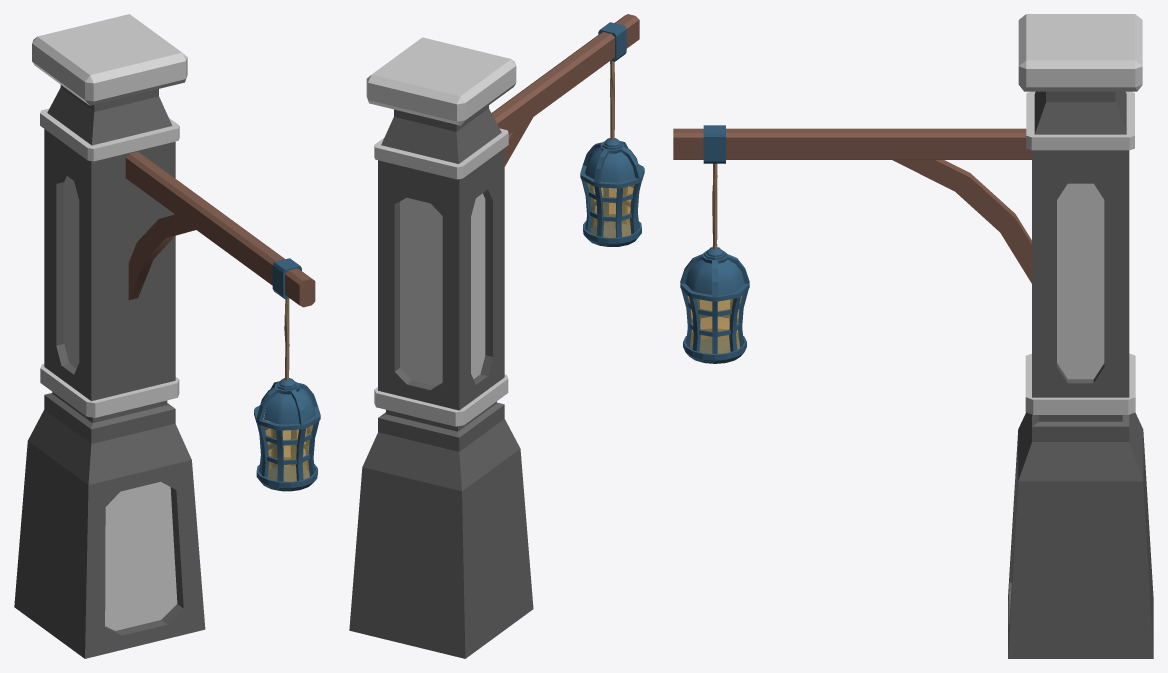
The model's file is StreetOilLight01_LOD_1.fbx.
The picture shows the model from 3 angles, left to right: view 1: azimuth 30°, elevation 25°; view 2: azimuth 150°, elevation 25°; view 3: azimuth 270°, elevation 25°; orthographic projection. The views are drawn at different scales.
Parts seen in each view (by area): view 1: street_oil_light; view 2: street_oil_light; view 3: street_oil_light.
Boxes of the visible parts, x1,y1,x2,y2 form: street_oil_light: [14, 14, 320, 658]; street_oil_light: [349, 14, 644, 658]; street_oil_light: [673, 14, 1153, 658].
Bounding box in the file's own units: 103 × 468 × 344.
